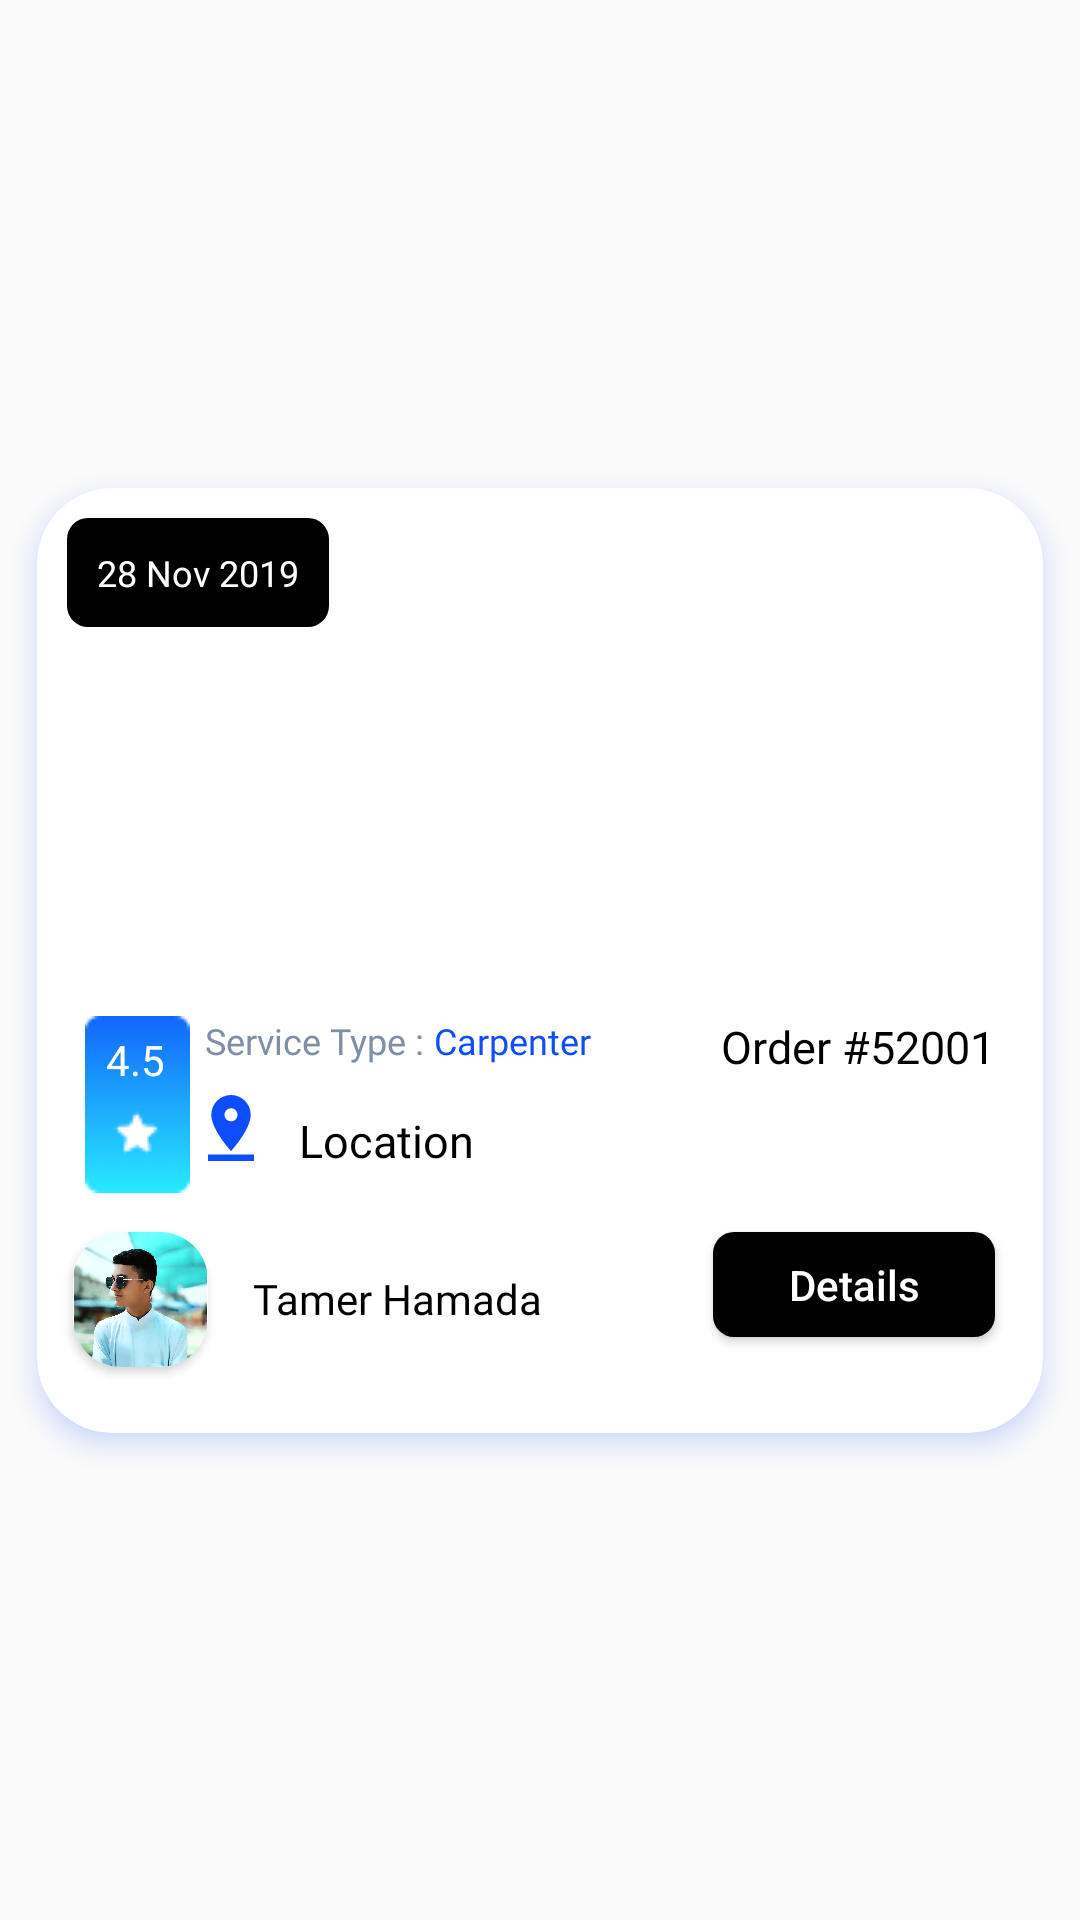

Named icons in this screenshot (1080 × 1920) and their bounding boxes, box=[x1, y1, x2, y2]:
pin drop: box=[208, 1095, 254, 1161]
rate: box=[85, 1016, 190, 1193]
